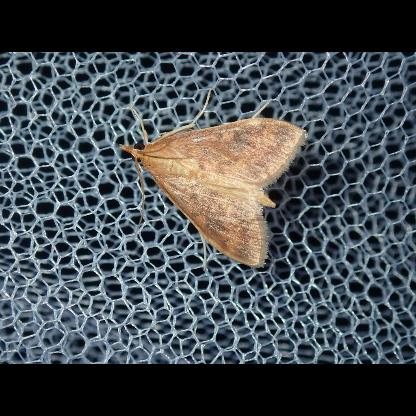Asian Corn Borer Moth: (118, 85, 312, 273)
